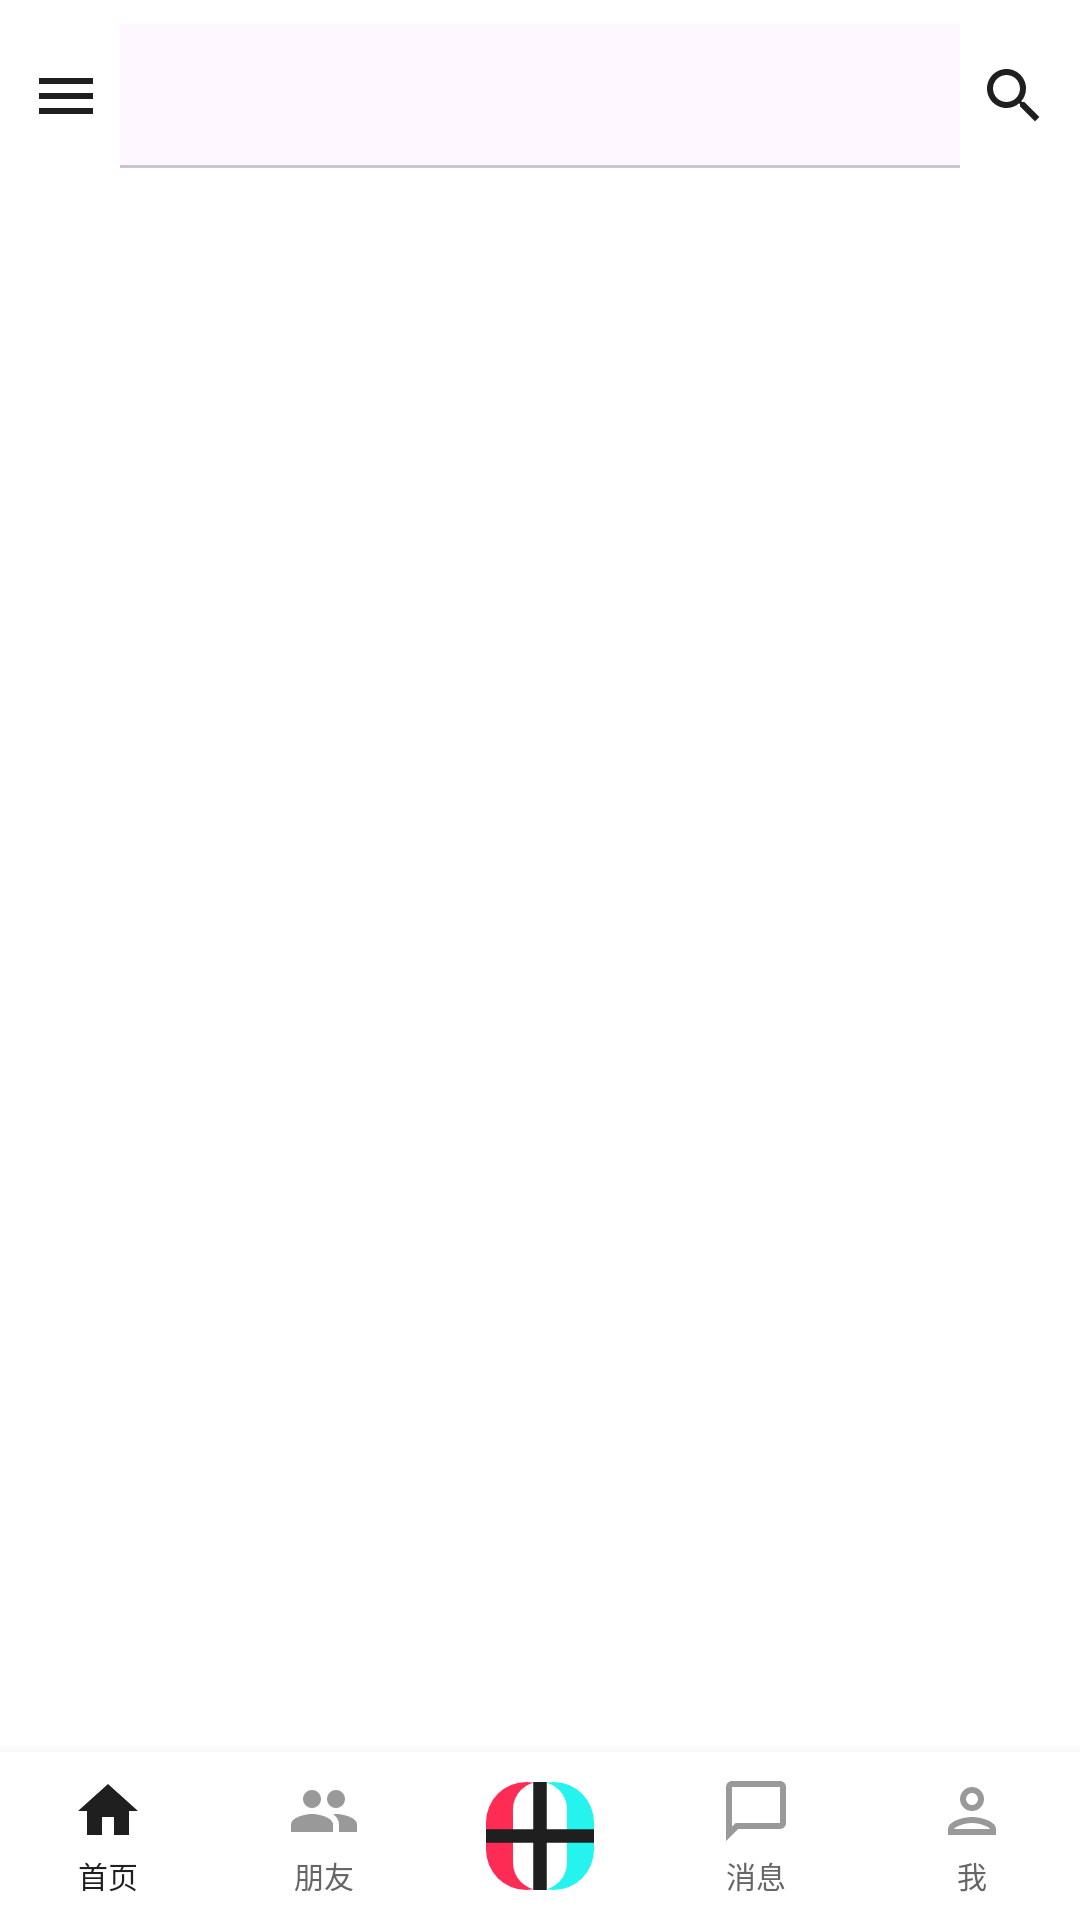

Locate icon controls on the screen. Image size 1080px×1920px, boxes as (x1, y1, x2, y2).
搜索: (987, 69, 1039, 121)
菜单: (39, 78, 93, 114)
